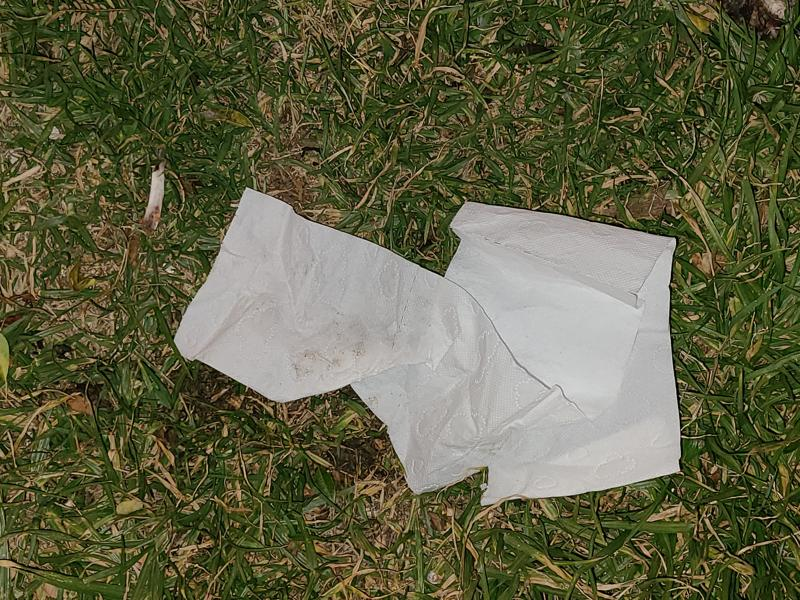papel: (173, 190, 682, 509)
